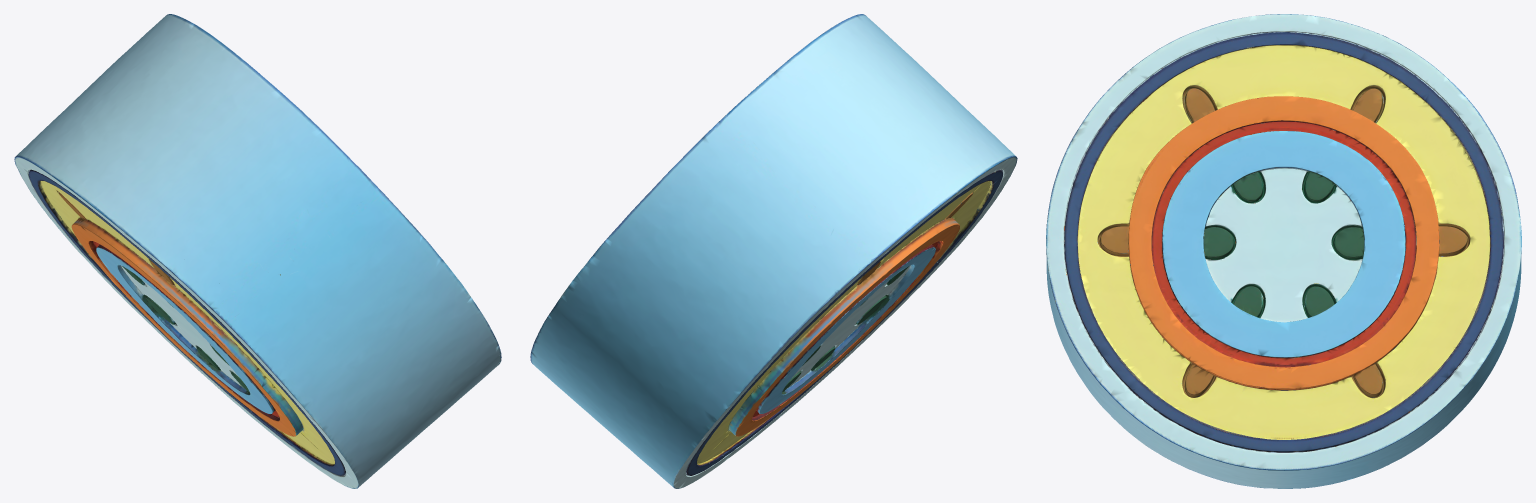
Rendered from Secondary Growth and Cambium.glb.
The picture shows the model from 3 angles, left to right: view 1: azimuth 30°, elevation 25°; view 2: azimuth 150°, elevation 25°; view 3: azimuth 270°, elevation 25°; orthographic projection. The views are drawn at different scales.
Visible parts, largest first — view 1: tripo_node_6edcc317-d8e0-4a7a-a83e-70943da5b4d0; view 2: tripo_node_6edcc317-d8e0-4a7a-a83e-70943da5b4d0; view 3: tripo_node_6edcc317-d8e0-4a7a-a83e-70943da5b4d0.
Part boxes in pixels (<box>): tripo_node_6edcc317-d8e0-4a7a-a83e-70943da5b4d0: <box>14,14,501,488</box>; tripo_node_6edcc317-d8e0-4a7a-a83e-70943da5b4d0: <box>530,14,1017,488</box>; tripo_node_6edcc317-d8e0-4a7a-a83e-70943da5b4d0: <box>1046,14,1521,488</box>.
Bounding box in the file's own units: 0.9039 × 0.9988 × 1.
Materials: 1 (1 with a texture image).
